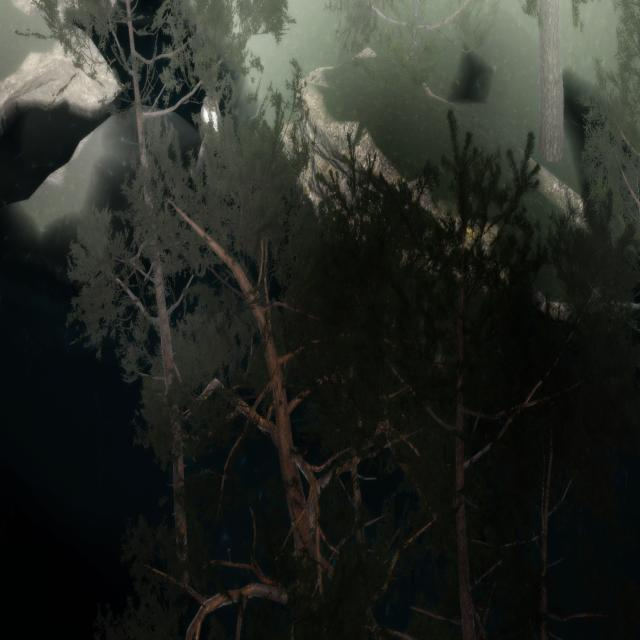Human: (199, 86, 227, 162)
